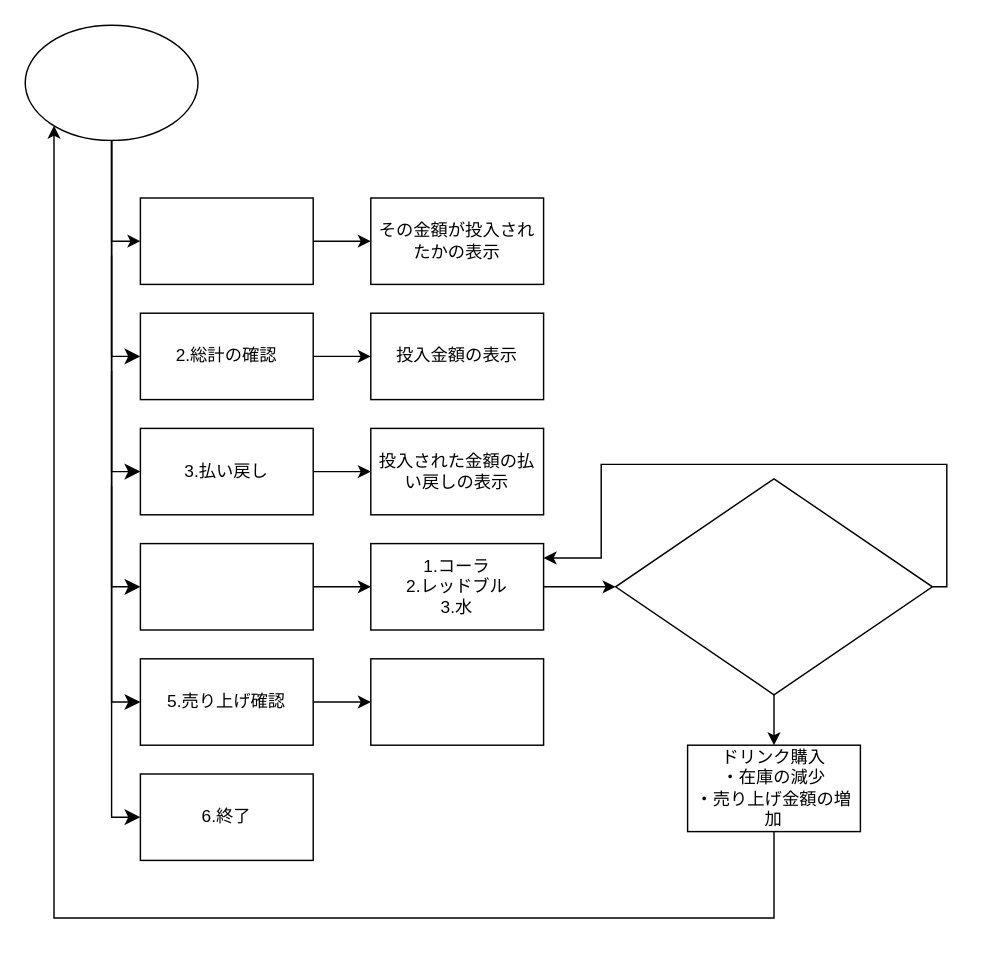
The diagram is 984 pixels wide and 955 high, and some of its shapes have lost their labels. Each missing label, with the box of its shape:
1.投入金額の入力: (139, 197, 313, 284)
4.取り扱いドリンク: (139, 542, 313, 630)
メニュー表示: (24, 24, 198, 140)
投入金額が足りない場合 or選択した在庫がない場合: (614, 477, 932, 695)
現在の売り上げの表示: (369, 657, 544, 745)
